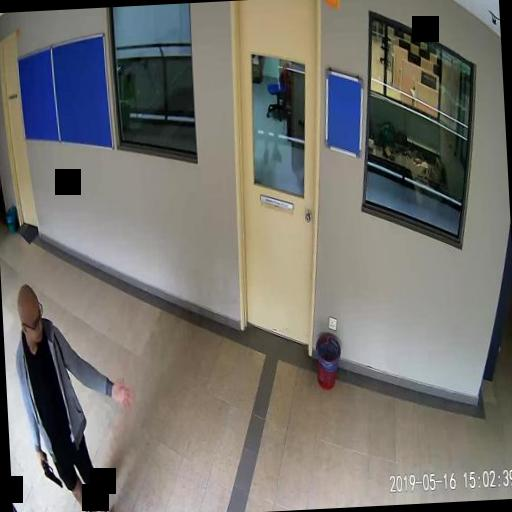Handgun: (39, 448, 61, 486)
